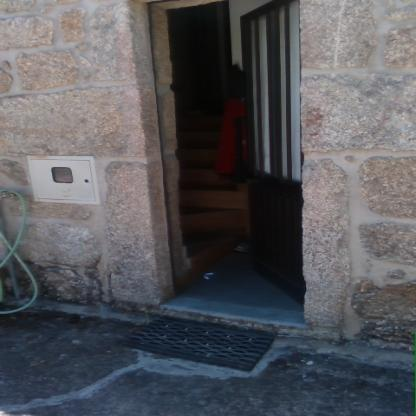semi: (131, 4, 321, 328)
